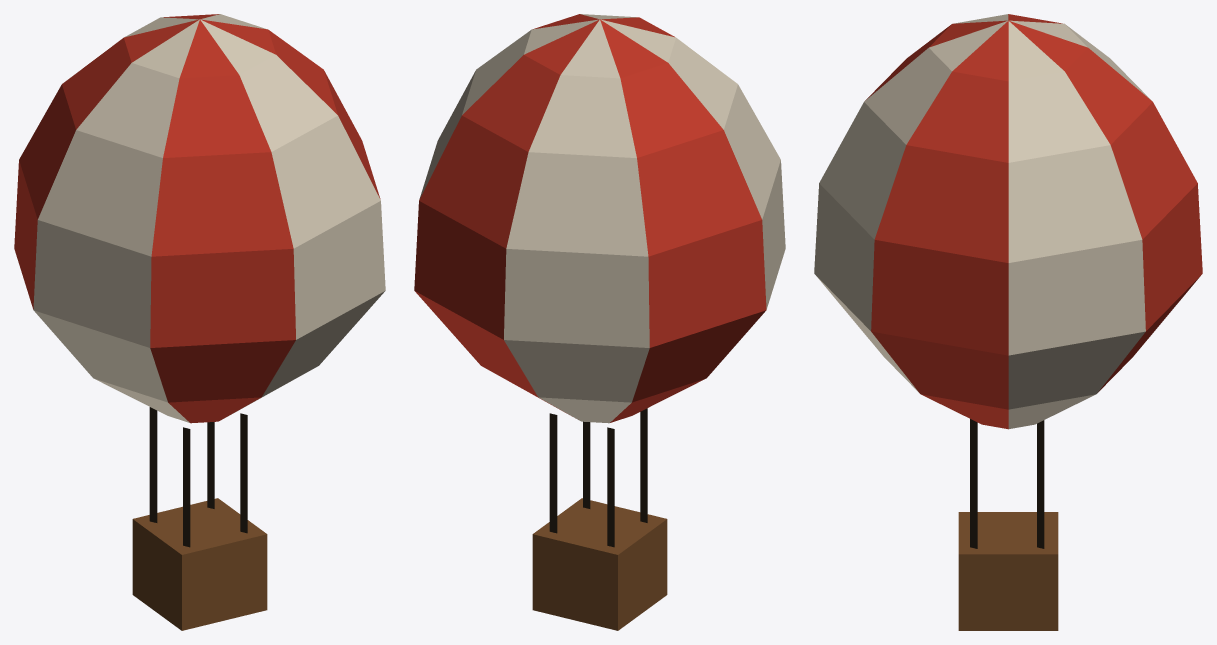
File: hot-air-balloon-a2a511.glb
3 views of the same model, side by side, from view 1: azimuth 30°, elevation 25°; view 2: azimuth 150°, elevation 25°; view 3: azimuth 270°, elevation 25° (orthographic).
Bounding box in the file's own units: 1.56 × 2.61 × 1.56.
